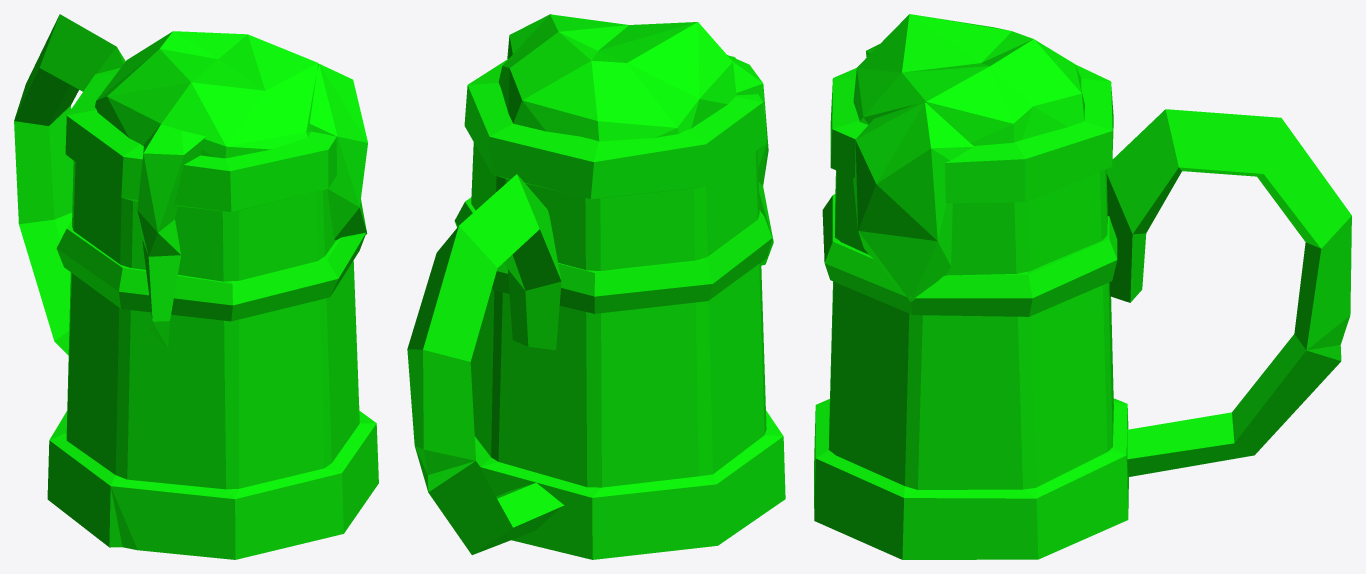
Rendered from SM_Beer_Glass_Wood_A_Full_B_Fantasy.fbx.
3 views of the same model, side by side, from view 1: azimuth 30°, elevation 25°; view 2: azimuth 150°, elevation 25°; view 3: azimuth 270°, elevation 25° (orthographic). The views are drawn at different scales.
Parts seen in each view (by area): view 1: beer-glass-wood-a-full-b-fantasy; view 2: beer-glass-wood-a-full-b-fantasy; view 3: beer-glass-wood-a-full-b-fantasy.
Boxes of the visible parts, left/top/right/bottom form: beer-glass-wood-a-full-b-fantasy: left=14, top=14, right=378, bottom=559; beer-glass-wood-a-full-b-fantasy: left=407, top=14, right=785, bottom=559; beer-glass-wood-a-full-b-fantasy: left=814, top=14, right=1351, bottom=559.
Size of the model in its own units: 0.1015 by 0.1604 by 0.1722.
